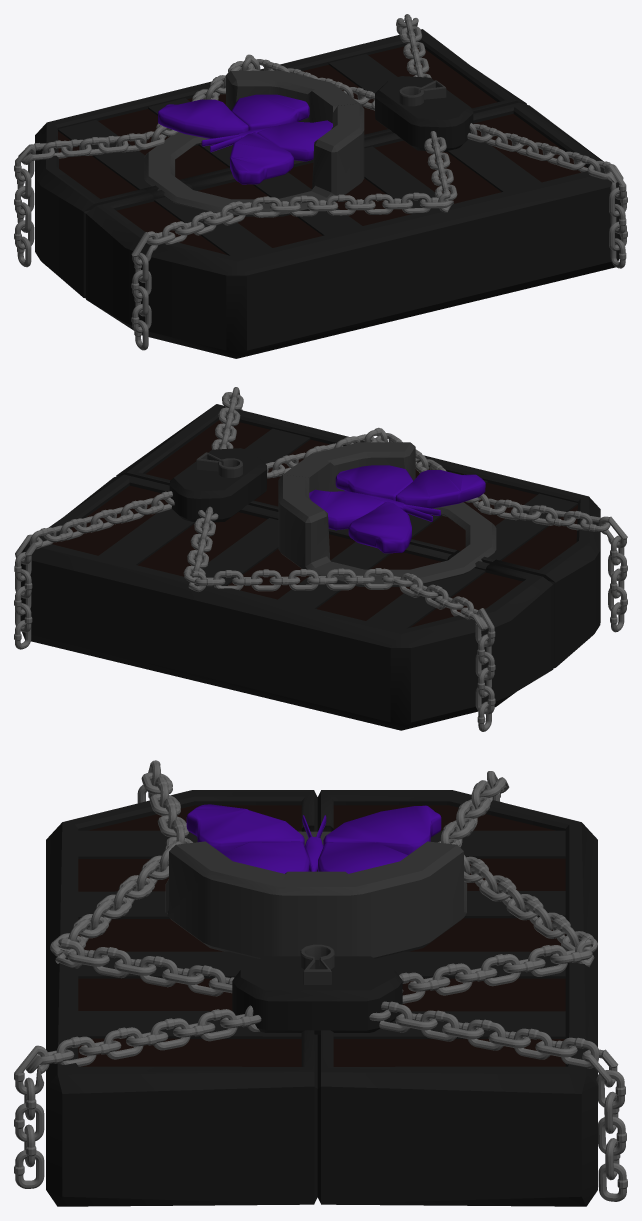
File: porte_papillon.fbx
3 views of the same model, one above another, from view 1: azimuth 30°, elevation 25°; view 2: azimuth 150°, elevation 25°; view 3: azimuth 270°, elevation 25° (orthographic). The views are drawn at different scales.
Visible parts, largest first — view 1: Box003; view 2: Box003; view 3: Box003.
Boxes of the visible parts, x1=… form: Box003: x1=14, y1=14, x2=627, y2=358; Box003: x1=14, y1=387, x2=627, y2=731; Box003: x1=14, y1=760, x2=627, y2=1206.
Size of the model in its own units: 222 by 73.73 by 189.
